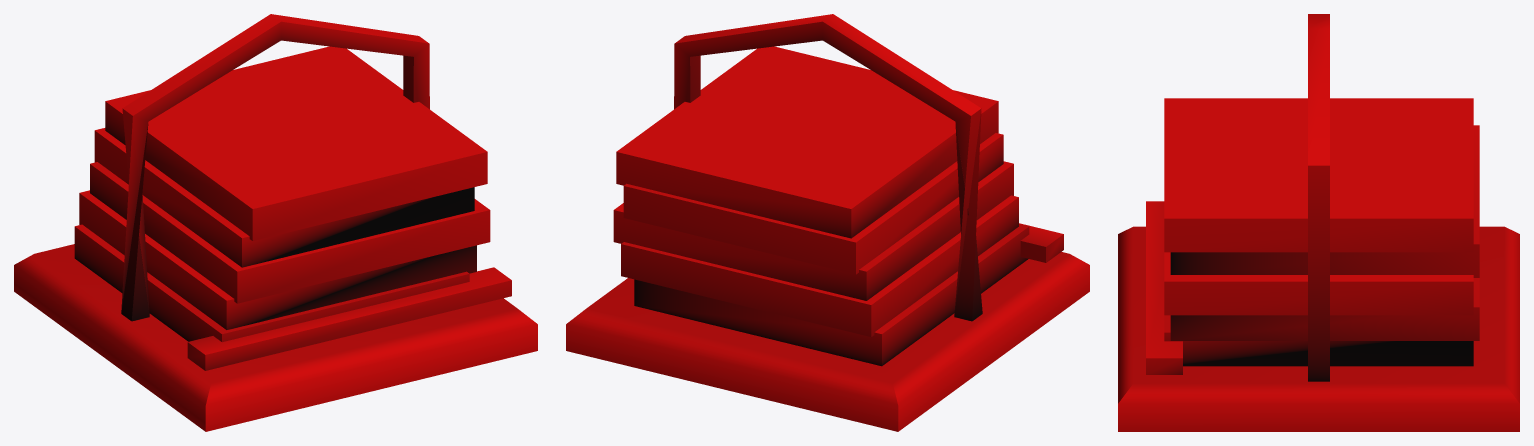
File: CI_Cafe_NapkinHolder.glb
3 views of the same model, side by side, from view 1: azimuth 30°, elevation 25°; view 2: azimuth 150°, elevation 25°; view 3: azimuth 270°, elevation 25° (orthographic). The views are drawn at different scales.
Visible parts, largest first — view 1: CI_Cafe_NapkinHolder; view 2: CI_Cafe_NapkinHolder; view 3: CI_Cafe_NapkinHolder.
Part boxes in pixels (<box>): CI_Cafe_NapkinHolder: <box>14,14,537,431</box>; CI_Cafe_NapkinHolder: <box>566,14,1089,431</box>; CI_Cafe_NapkinHolder: <box>1118,14,1519,431</box>.
Bounding box in the file's own units: 0.13 × 0.1135 × 0.13.
